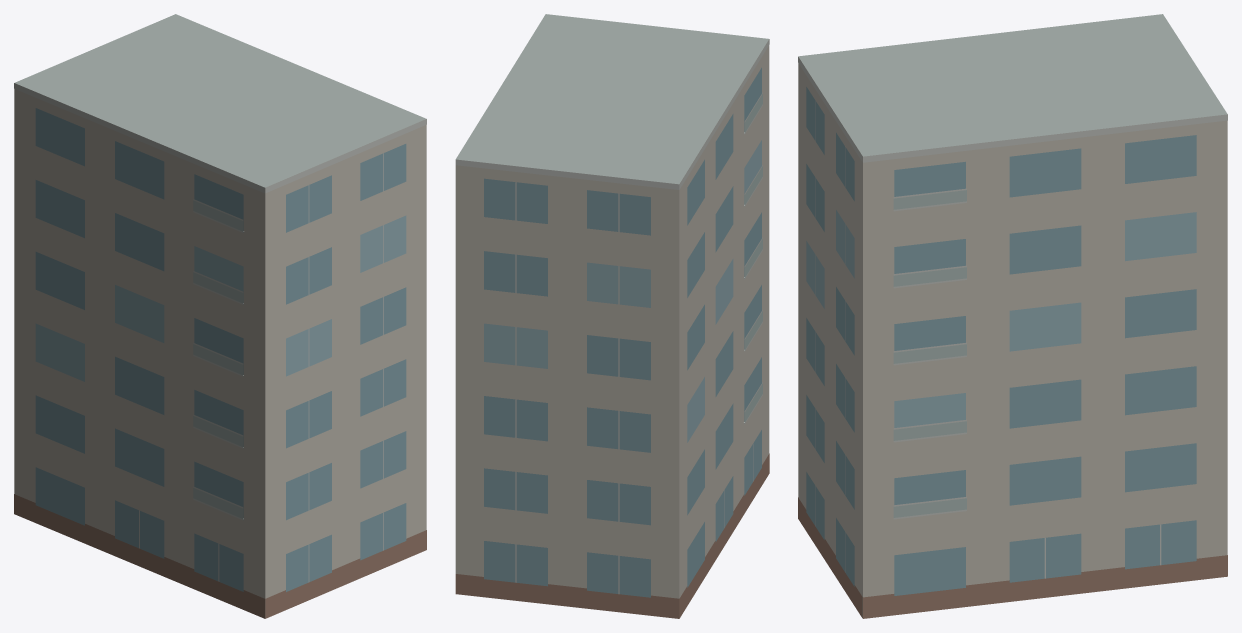
The model's file is survey-upis-32656717.glb.
3 renders of one model, left to right at view 1: azimuth 30°, elevation 25°; view 2: azimuth 150°, elevation 25°; view 3: azimuth 270°, elevation 25°, orthographic. The views are drawn at different scales.
Visible parts, largest first — view 1: survey-upis-32656717.tmp; view 2: survey-upis-32656717.tmp; view 3: survey-upis-32656717.tmp.
Boxes of the visible parts, x1,y1,x2,y2 form: survey-upis-32656717.tmp: (14,14,426,618); survey-upis-32656717.tmp: (455,14,769,618); survey-upis-32656717.tmp: (798,14,1227,618).
Bounding box in the file's own units: 12.12 × 18.3 × 15.43.
